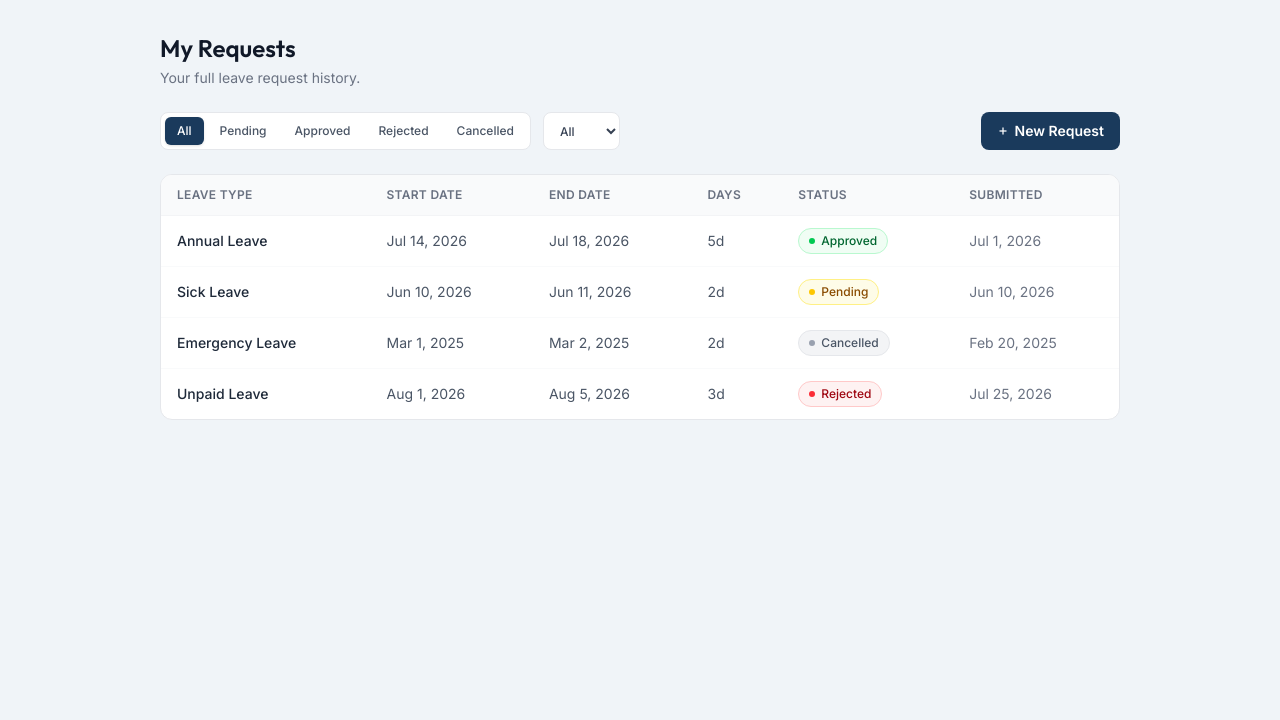
Scenario: MyRequests detail modal › shows an inline error and no dead link when the doc fetch fails
expect the text "Annual Leave" is shown: met, box [161,216,370,266]
Click the button "Sick Leave Jun 10, 2026 Jun 11, 2026 2d Pending Jun 10, 2026": {"x": 213, "y": 292} [161,266,1119,318]
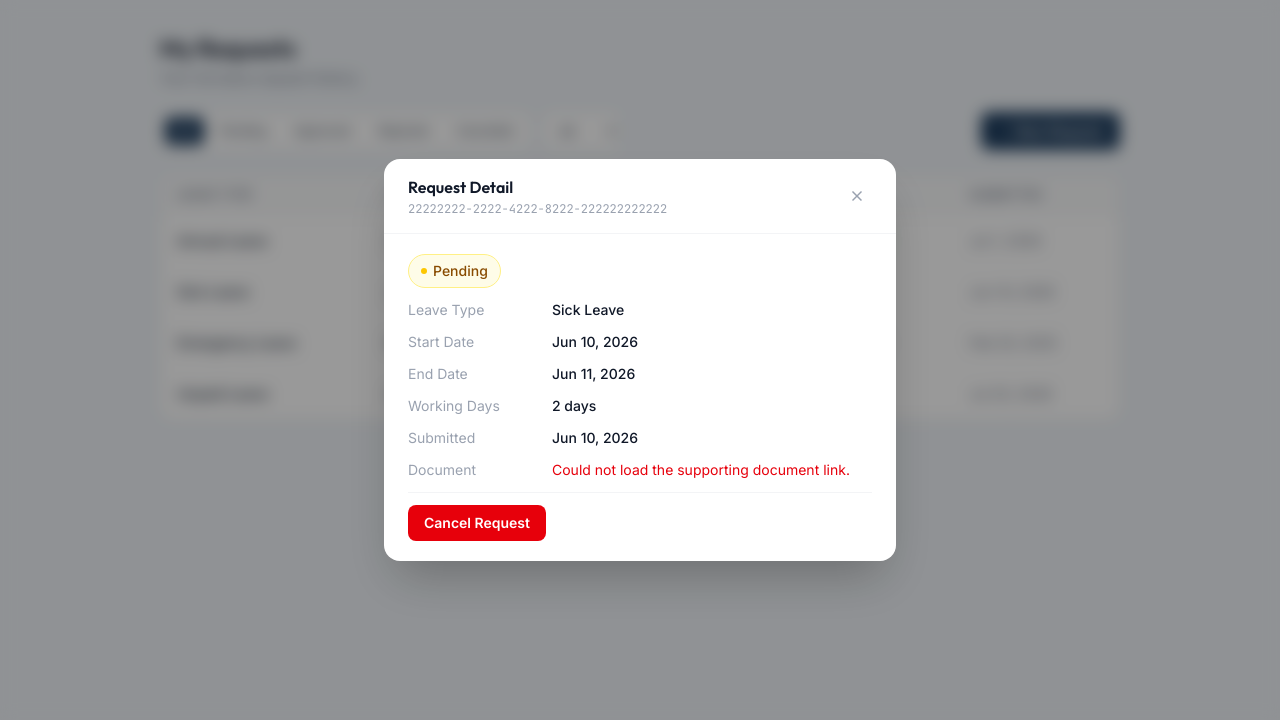
expect the text "Could not load the supporting document link." is shown: met, box [552,460,850,480]
